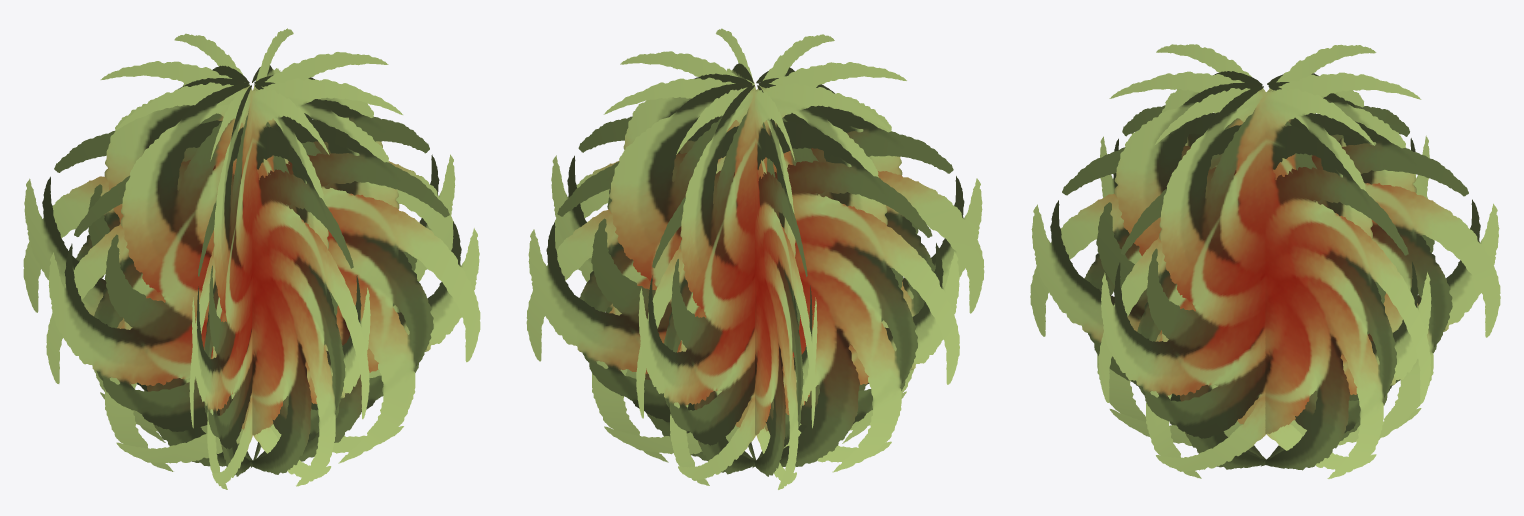
Rendered from painted-weed-064.glb.
3 views of the same model, side by side, from view 1: azimuth 30°, elevation 25°; view 2: azimuth 150°, elevation 25°; view 3: azimuth 270°, elevation 25° (orthographic).
Size of the model in its own units: 7.5 by 7.1 by 7.5.
Materials: 1 (1 with a texture image).
